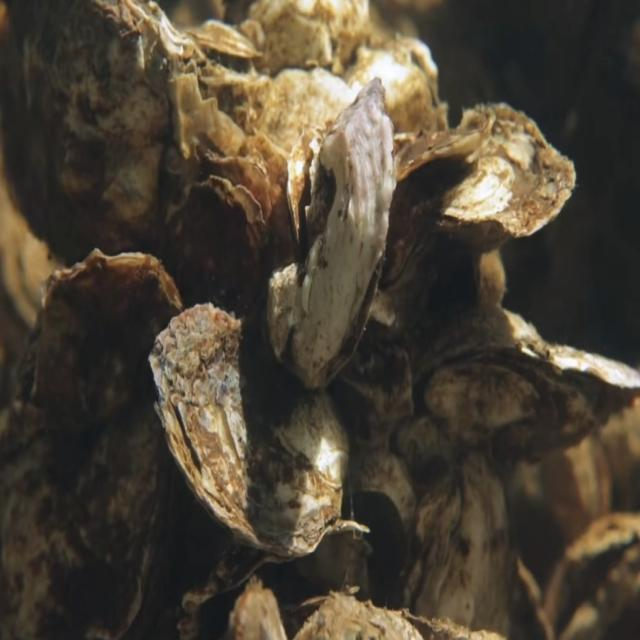Oyster-Closed: (0, 247, 184, 640), (147, 302, 355, 560), (264, 76, 398, 393), (409, 305, 640, 472), (381, 102, 577, 291), (392, 446, 515, 640)
Oyster-Indeterminate: (0, 0, 221, 272), (161, 173, 267, 327)
Oyster-Open: (195, 517, 370, 640), (542, 508, 640, 640)
